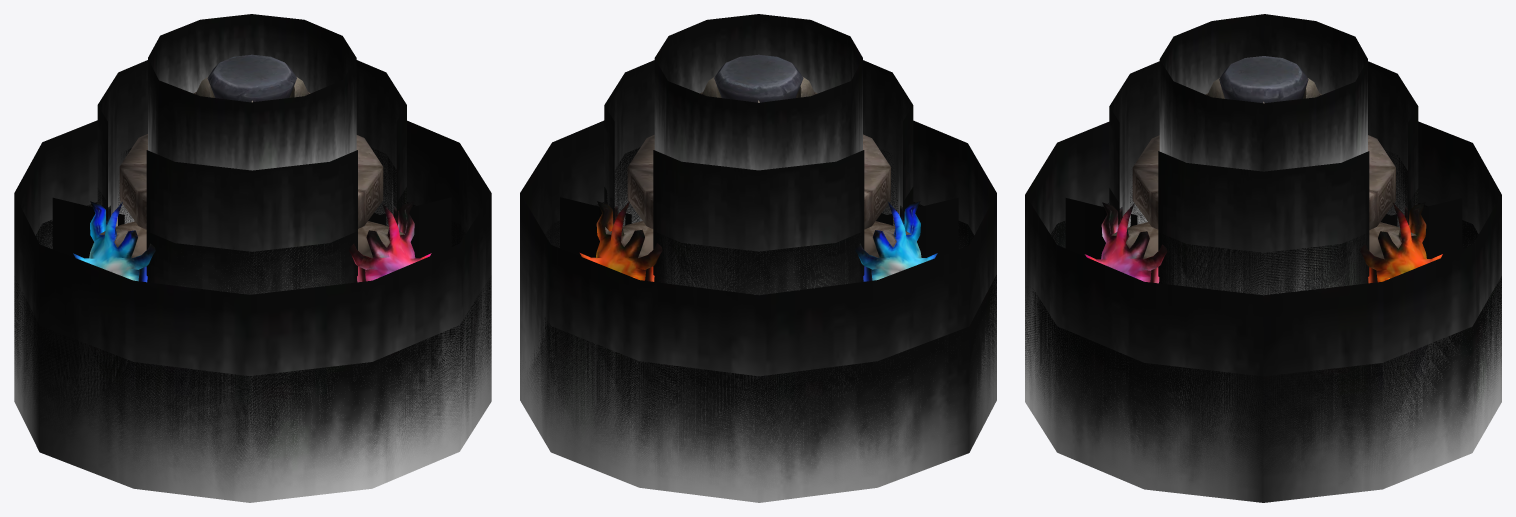
3 views of the same model, side by side, from view 1: azimuth 30°, elevation 25°; view 2: azimuth 150°, elevation 25°; view 3: azimuth 270°, elevation 25° (orthographic).
Bounding box in the file's own units: 2.53 × 1.98 × 2.5.
Materials: 7 (7 with a texture image).
